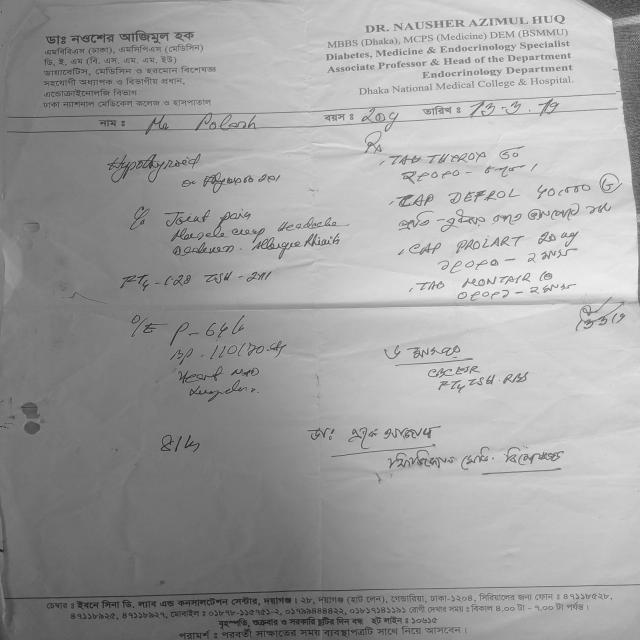Defrol: (449, 182, 524, 208)
Montair: (456, 272, 540, 291)
Prolert: (450, 232, 527, 257)
Thyrox: (422, 146, 491, 171)
